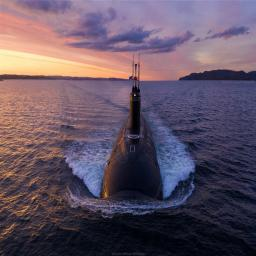submarine: (98, 33, 166, 205)
